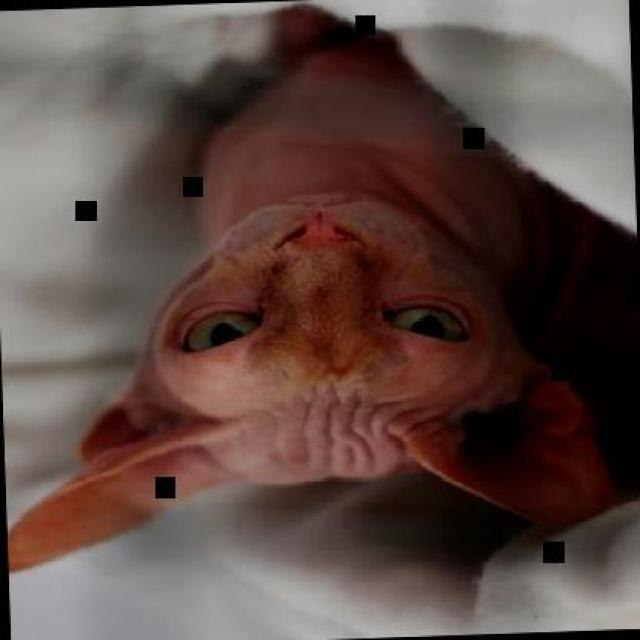cat: (0, 3, 638, 577)
